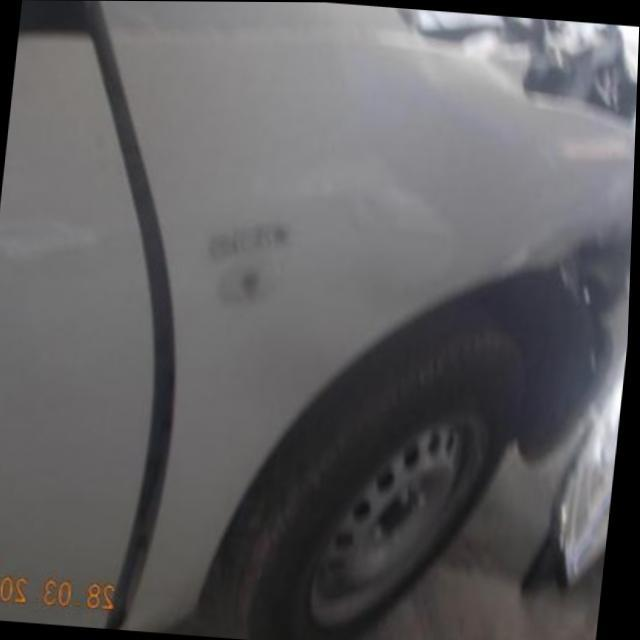dislocated part: (69, 27, 184, 629)
